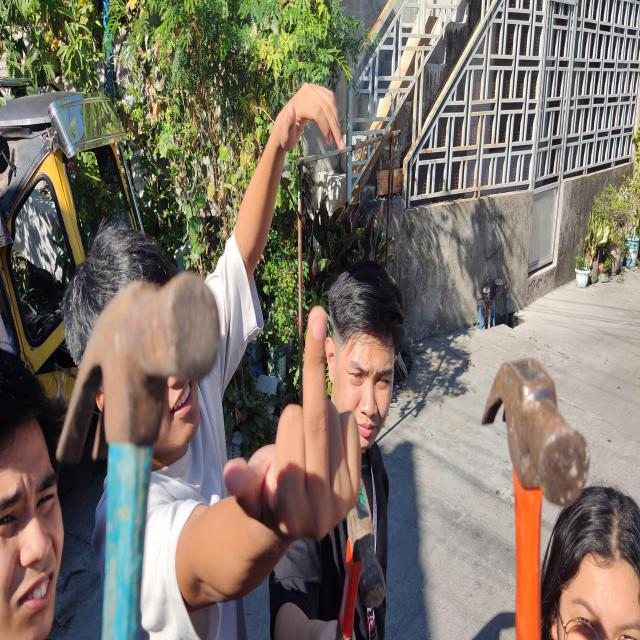hammer: (56, 272, 220, 640), (482, 357, 590, 640), (335, 472, 385, 640)
